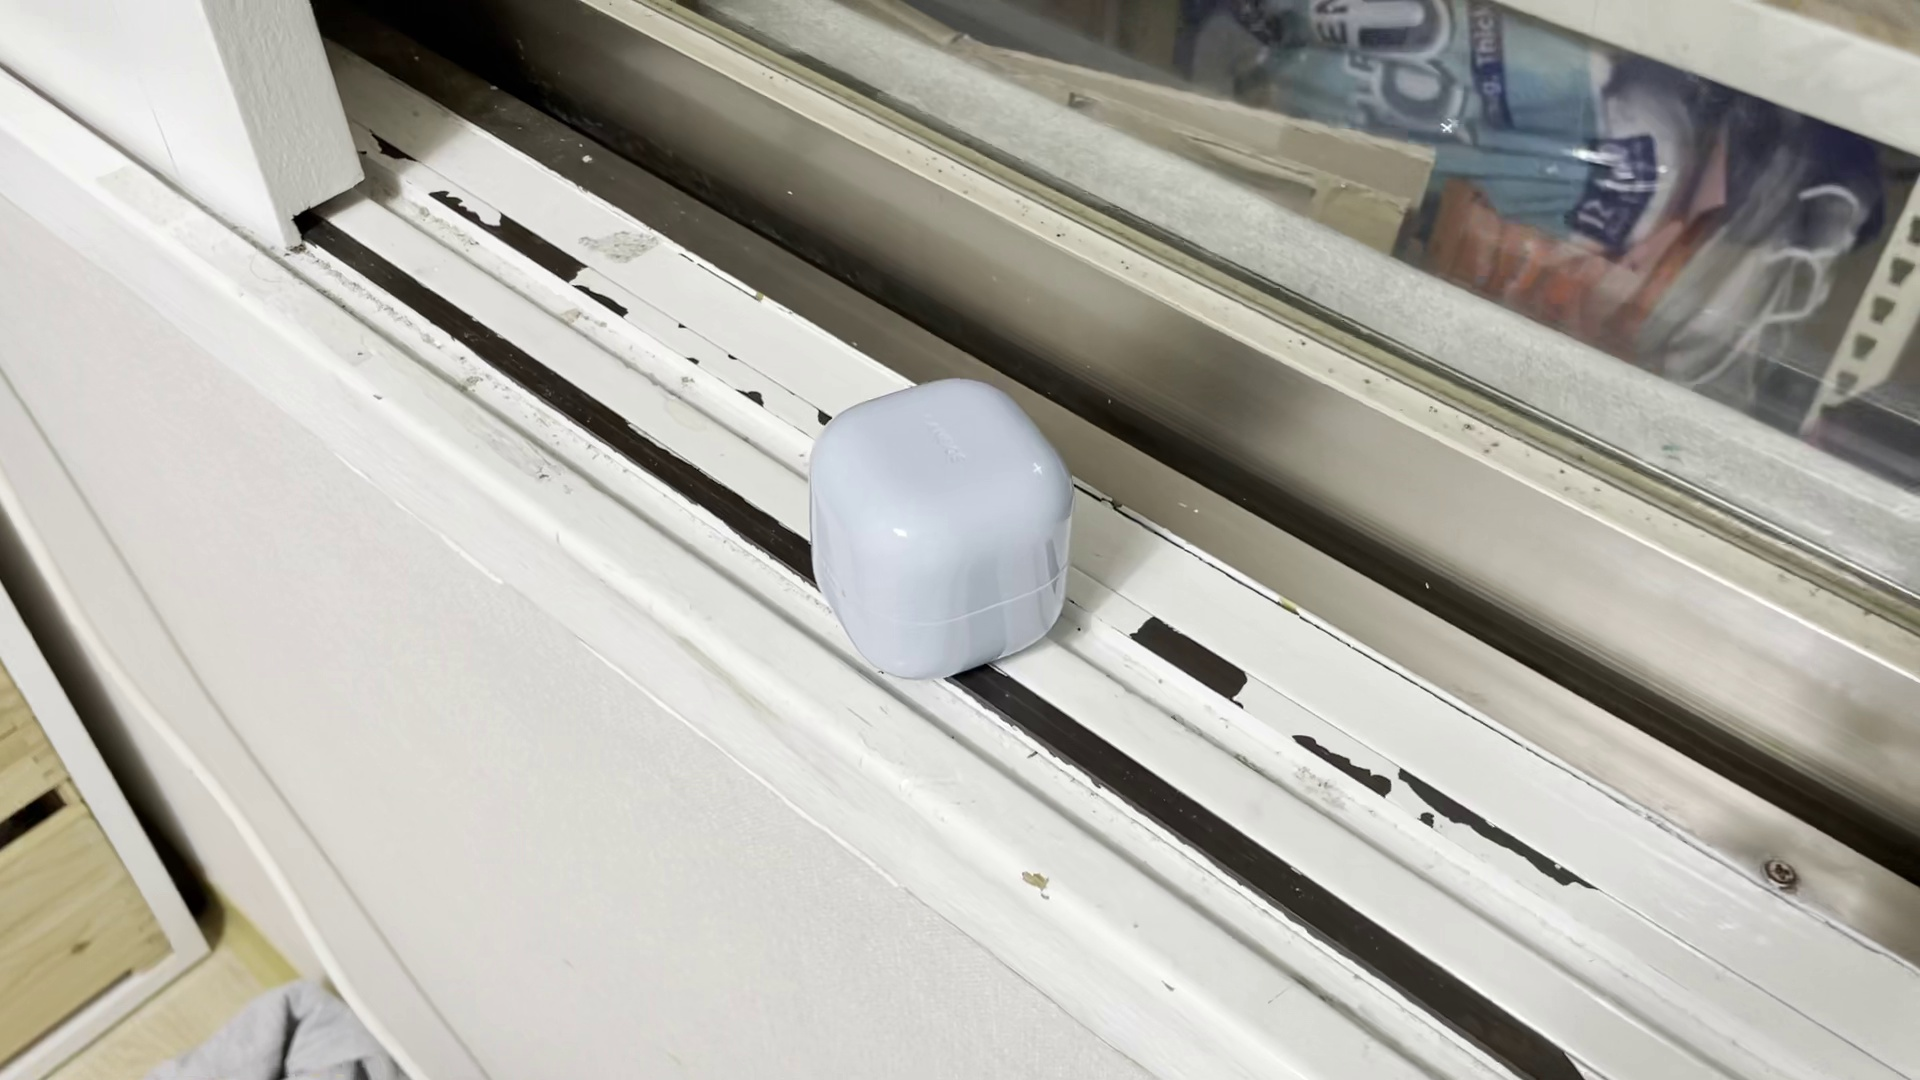cream: (804, 380, 1077, 682)
